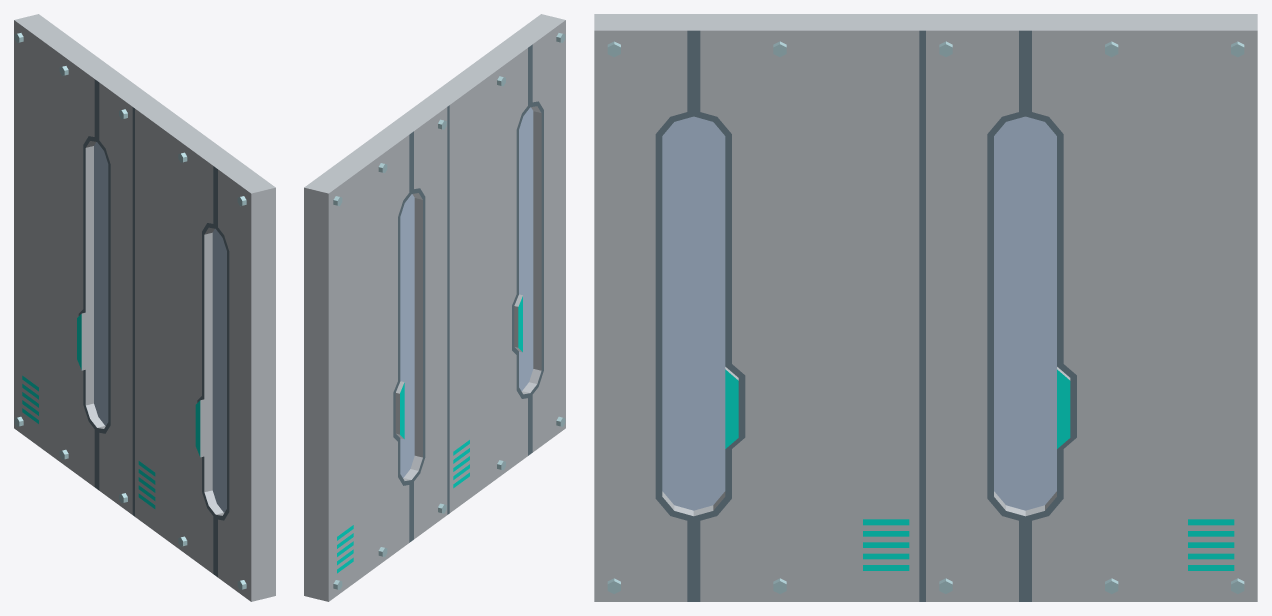
Rendered from window-01b.fbx.
3 renders of one model, left to right at view 1: azimuth 30°, elevation 25°; view 2: azimuth 150°, elevation 25°; view 3: azimuth 270°, elevation 25°, orthographic. The views are drawn at different scales.
Visible parts, largest first — view 1: window-01b; view 2: window-01b; view 3: window-01b.
Part boxes in pixels (x1,y1,x2,y2): window-01b: [14, 14, 275, 601]; window-01b: [304, 14, 565, 601]; window-01b: [594, 14, 1257, 601].
Size of the model in its own units: 8 by 95 by 100.
